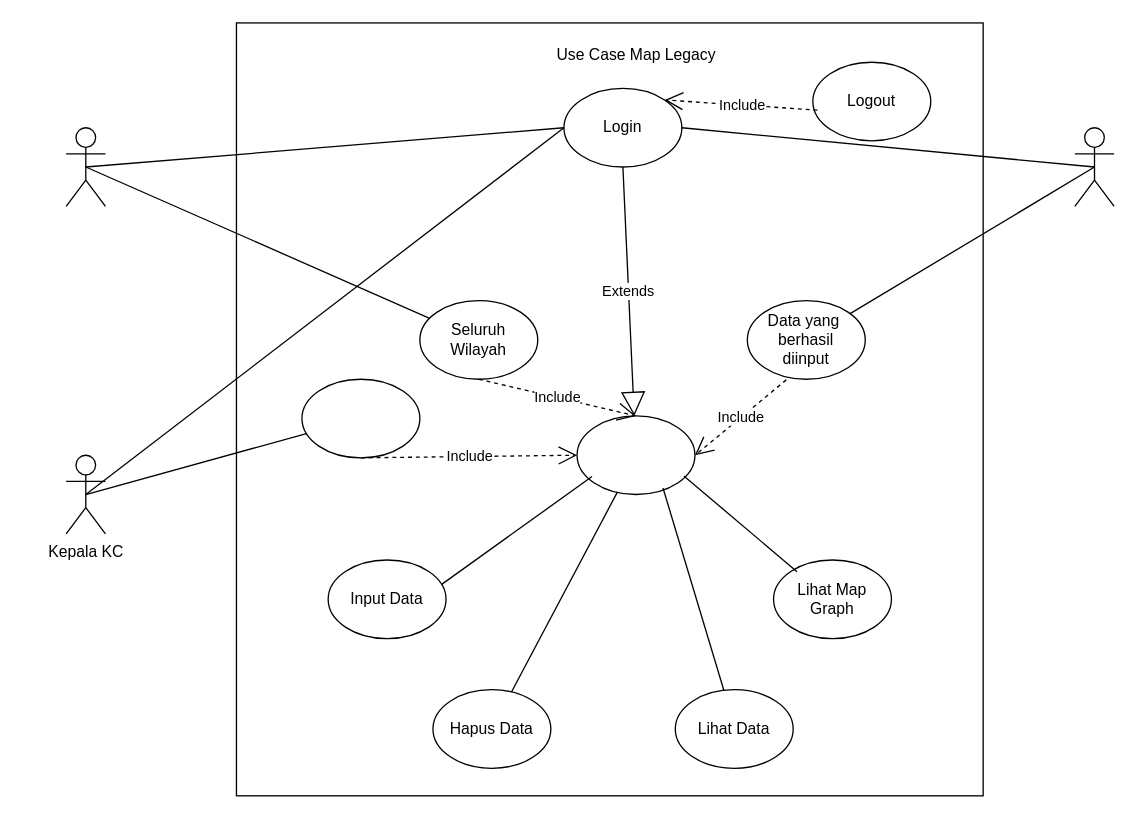
This 1144x819 diagram has some shape labels left out. Each missing label, with the centre of its shape:
"Data KC" goes at pixel 360 418.
"Individu" goes at pixel 1094 166.
"Manipulasi Data" goes at pixel 635 455.
"Pimpinan Wilayah" goes at pixel 85 166.
